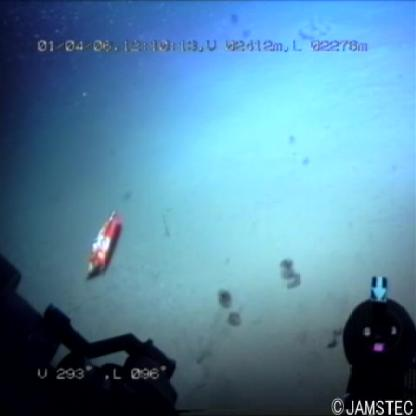Rov: (4, 252, 181, 416), (337, 271, 415, 415)
Rác: (81, 209, 128, 282)
